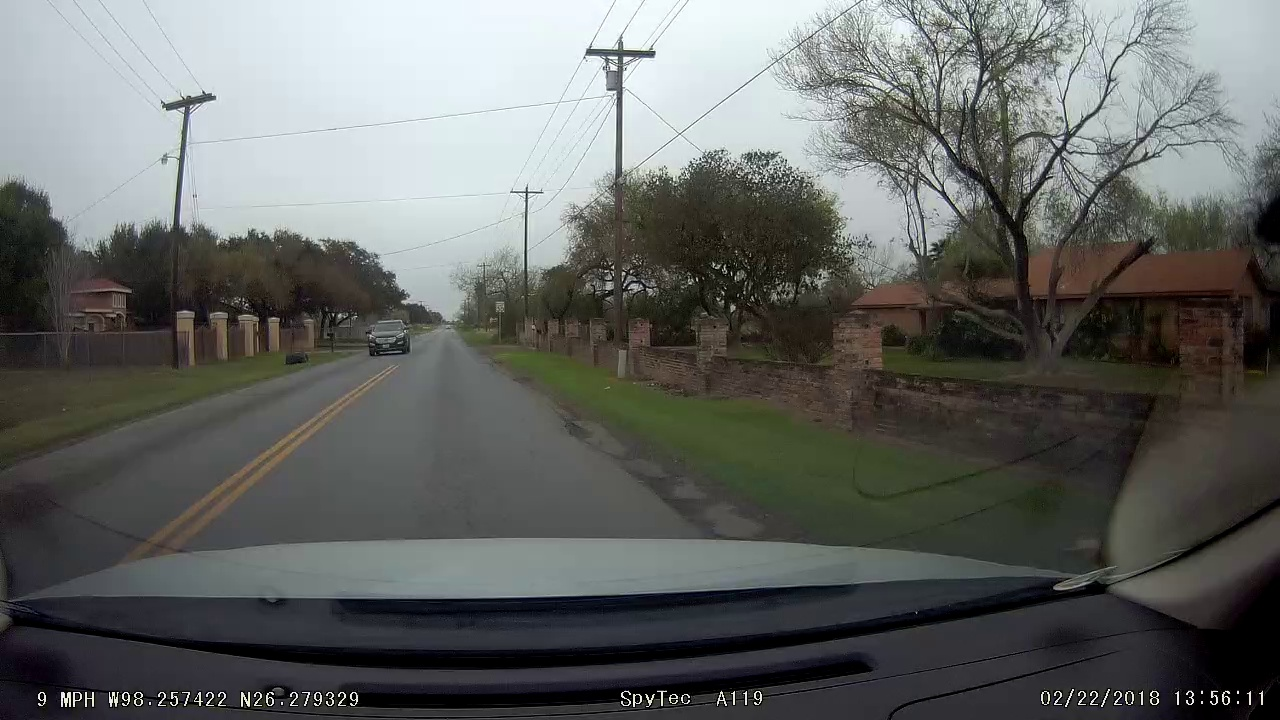pothole: (556, 423, 596, 443)
